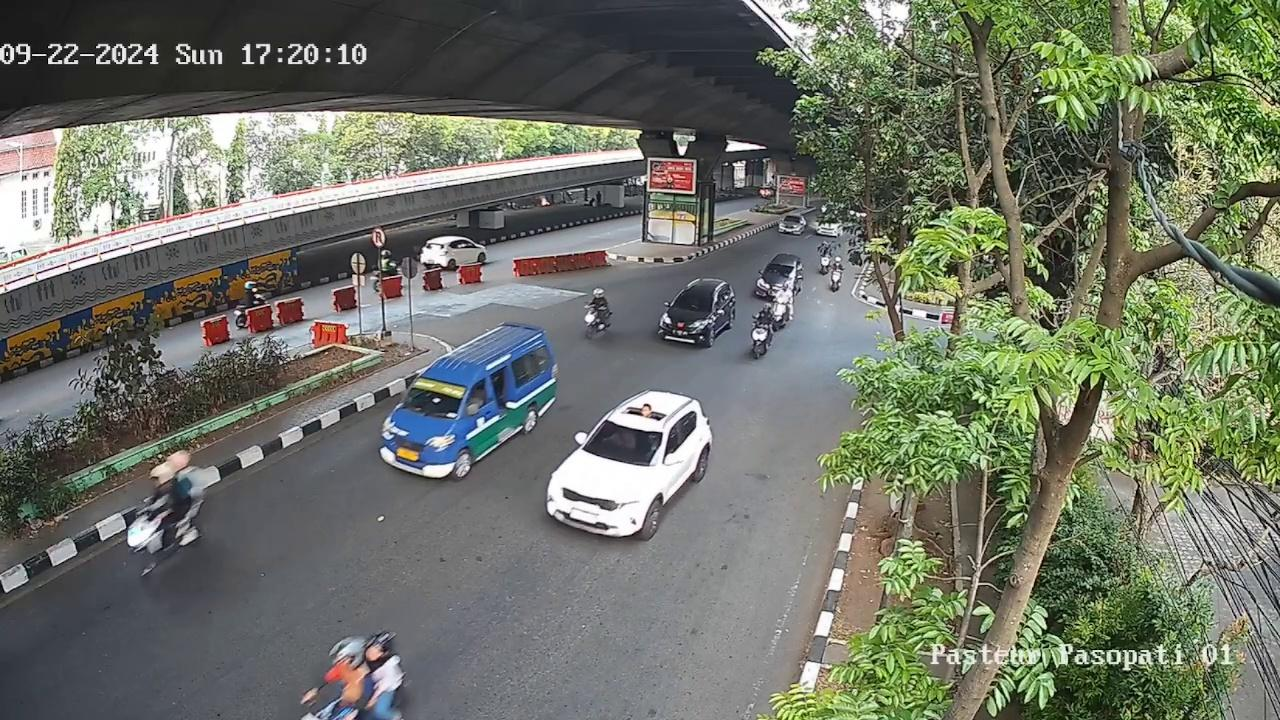tidak-pakai: (608, 427, 636, 453)
windshield: (584, 415, 666, 468), (402, 377, 467, 417), (672, 286, 712, 312)
